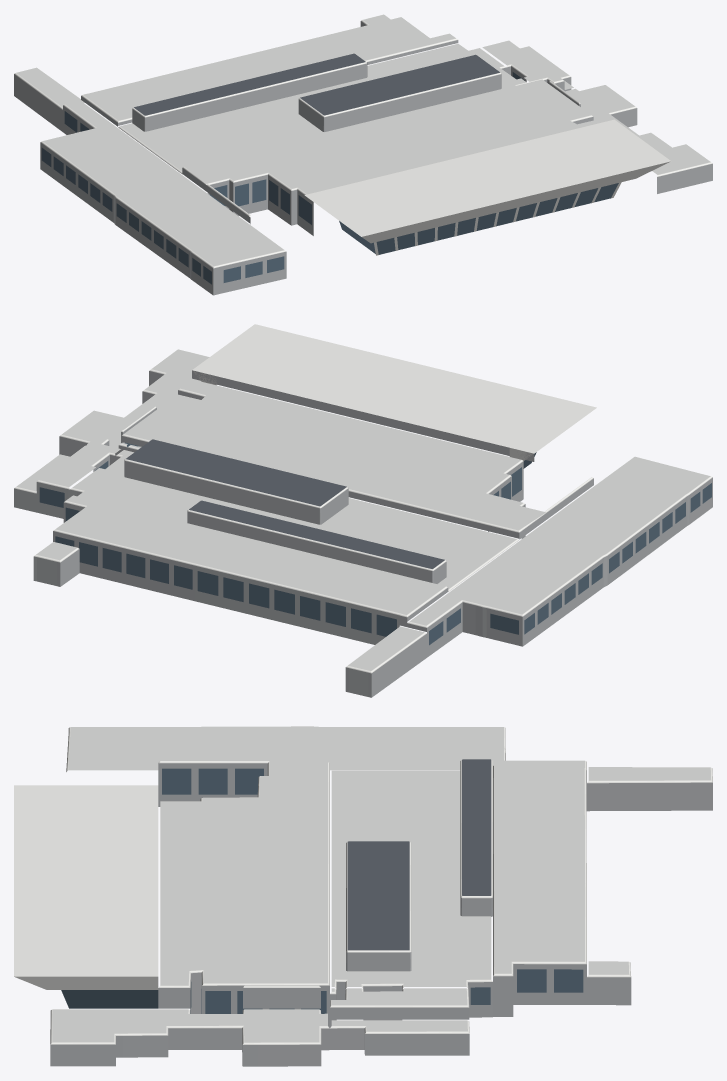
Rendered from nyc-jfk-terminal-7.glb.
The picture shows the model from 3 angles, top to bottom: view 1: azimuth 30°, elevation 25°; view 2: azimuth 150°, elevation 25°; view 3: azimuth 270°, elevation 25°; orthographic projection. The views are drawn at different scales.
Parts seen in each view (by area): view 1: JFK Airport Terminal 7; view 2: JFK Airport Terminal 7; view 3: JFK Airport Terminal 7.
Part boxes in pixels (bbox=[...]): JFK Airport Terminal 7: bbox=[14, 14, 712, 295]; JFK Airport Terminal 7: bbox=[14, 324, 712, 697]; JFK Airport Terminal 7: bbox=[14, 726, 712, 1066].
Bounding box in the file's own units: 177 × 15.5 × 171.
